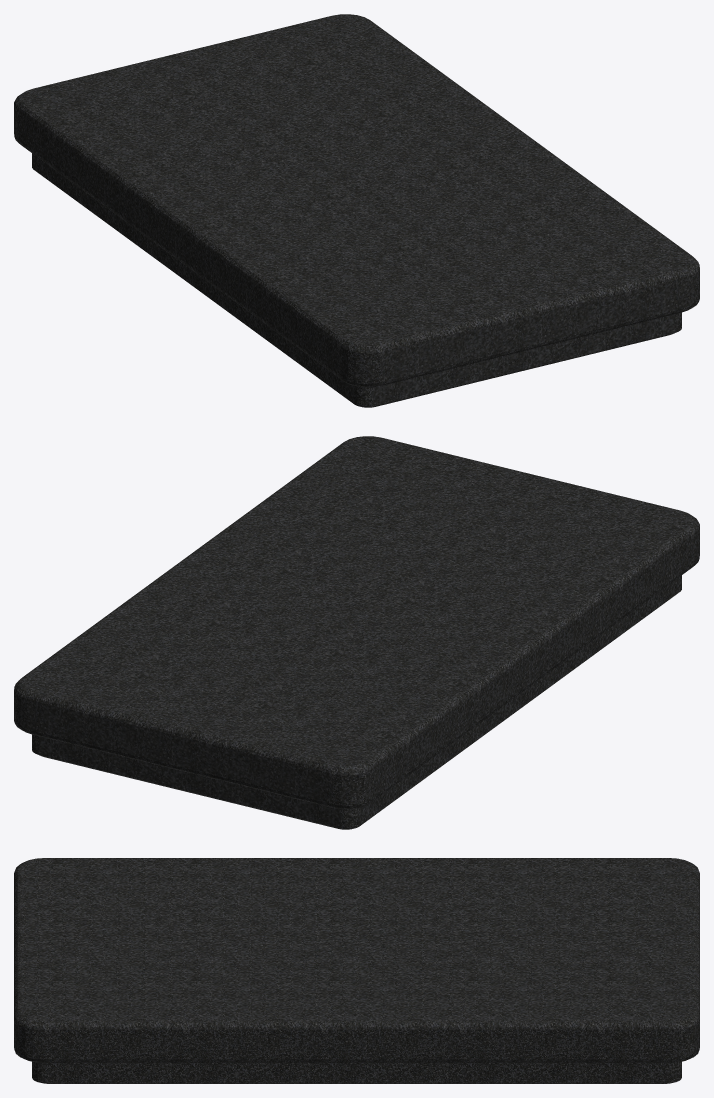
File: slab-solid.glb
3 renders of one model, top to bottom at view 1: azimuth 30°, elevation 25°; view 2: azimuth 150°, elevation 25°; view 3: azimuth 270°, elevation 25°, orthographic. The views are drawn at different scales.
Visible parts, largest first — view 1: SM_slab_solid; view 2: SM_slab_solid; view 3: SM_slab_solid.
Boxes of the visible parts, <box> form: SM_slab_solid: <box>14,14,699,407</box>; SM_slab_solid: <box>14,436,699,829</box>; SM_slab_solid: <box>14,858,699,1083</box>.
Bounding box in the file's own units: 0.66 × 0.126 × 1.14.
Materials: 2 (2 with a texture image).
